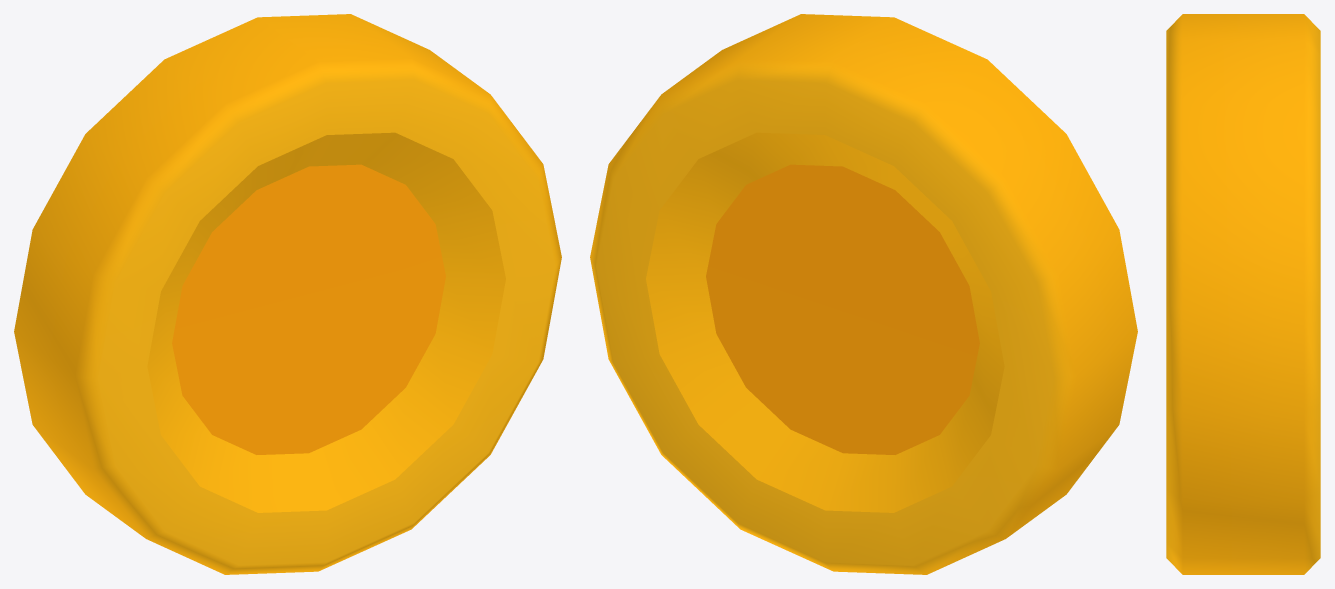
The model's file is coin_001.glb.
3 views of the same model, side by side, from view 1: azimuth 30°, elevation 25°; view 2: azimuth 150°, elevation 25°; view 3: azimuth 270°, elevation 25° (orthographic).
Visible parts, largest first — view 1: coin_001; view 2: coin_001; view 3: coin_001.
Part boxes in pixels (x1=…): coin_001: x1=14, y1=14, x2=561, y2=574; coin_001: x1=590, y1=14, x2=1137, y2=574; coin_001: x1=1166, y1=14, x2=1320, y2=574.
Bounding box in the file's own units: 0.9346 × 0.9346 × 0.2573.
Materials: 1 (1 with a texture image).
